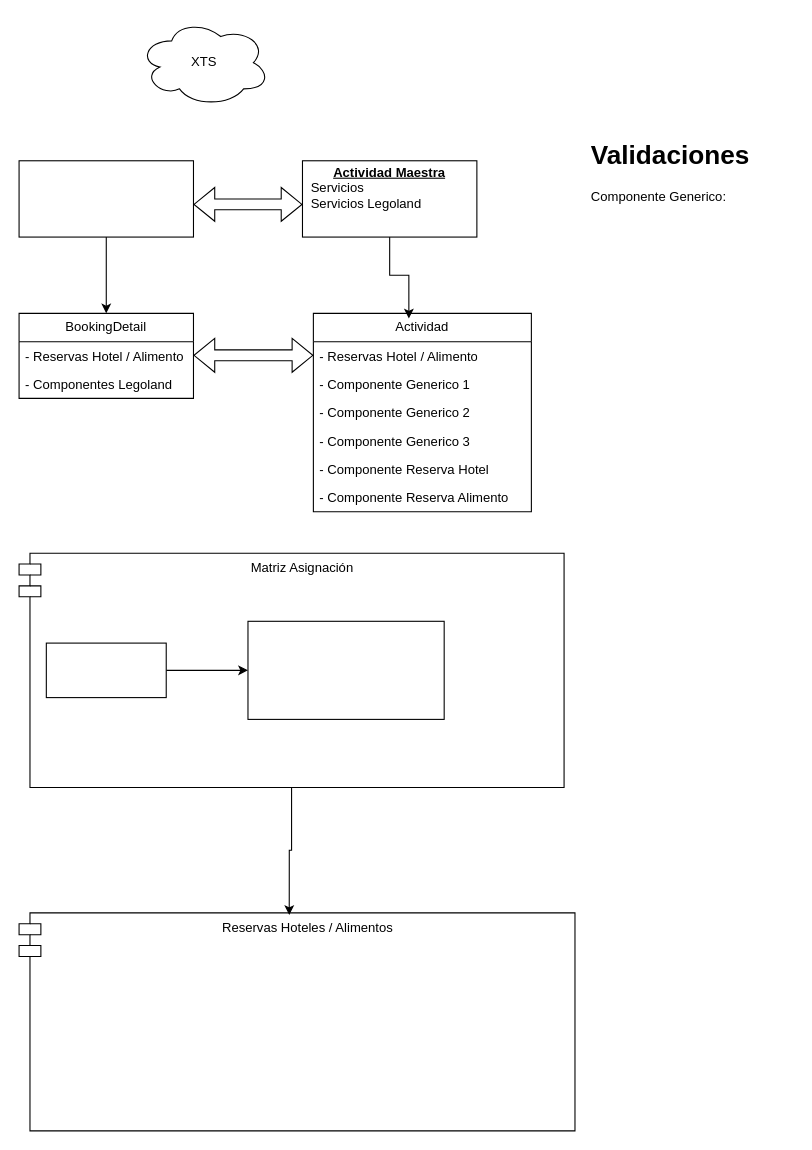
Some shapes in this 812 by 1150 pixel diagram are drawn without their labels. The centre of each missing label's shape, as x and y in pixels:
Asignar Actividad Generica: pixel 345 669
Booking Servicios Servicios Legoland: pixel 105 198
Componente Generico: pixel 105 670
